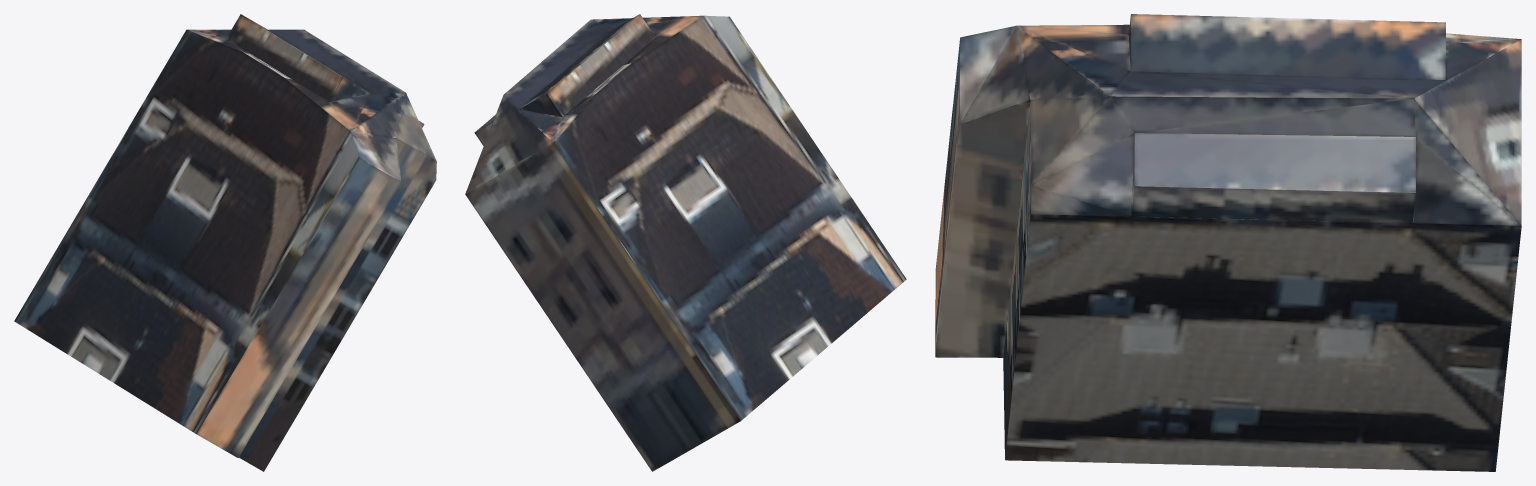
3 renders of one model, left to right at view 1: azimuth 30°, elevation 25°; view 2: azimuth 150°, elevation 25°; view 3: azimuth 270°, elevation 25°, orthographic. The views are drawn at different scales.
Visible parts, largest first — view 1: BAG_0599100000688747 (×5); view 2: BAG_0599100000688747 (×5); view 3: BAG_0599100000688747 (×5).
Part boxes in pixels (x1,y1,x2,y2): BAG_0599100000688747 (×5): (14,14,436,471); BAG_0599100000688747 (×5): (465,14,906,471); BAG_0599100000688747 (×5): (935,14,1521,471).
Bounding box in the file's own units: 13.04 × 14.54 × 13.89.
Materials: 1 (1 with a texture image).
